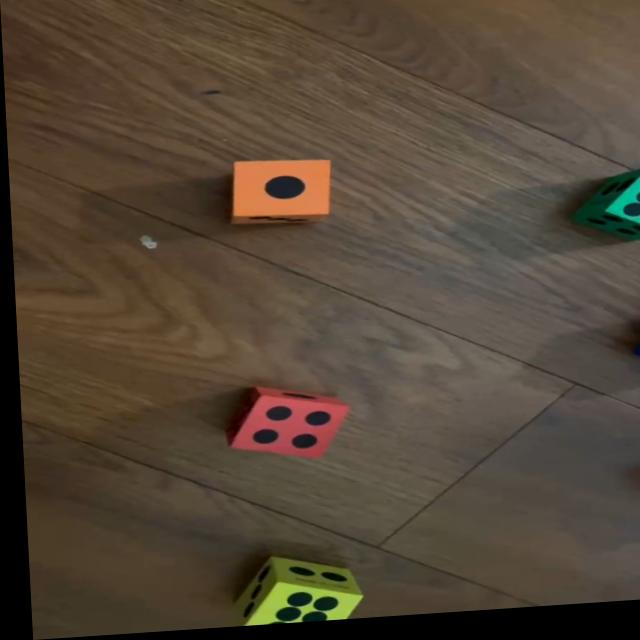red_block: (219, 386, 346, 465)
